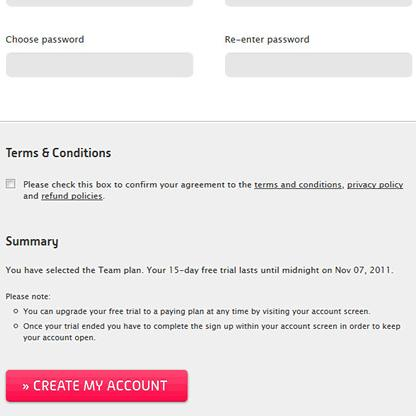button: (5, 370, 189, 403)
field: (2, 48, 194, 78), (222, 51, 413, 78)
